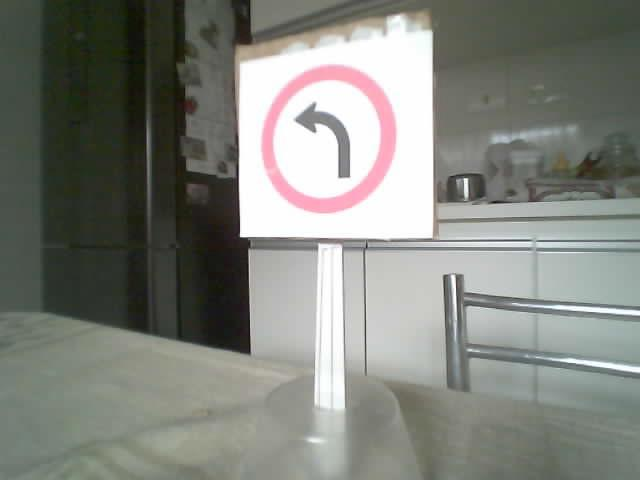R-25a_esquerda: (259, 63, 397, 215)
